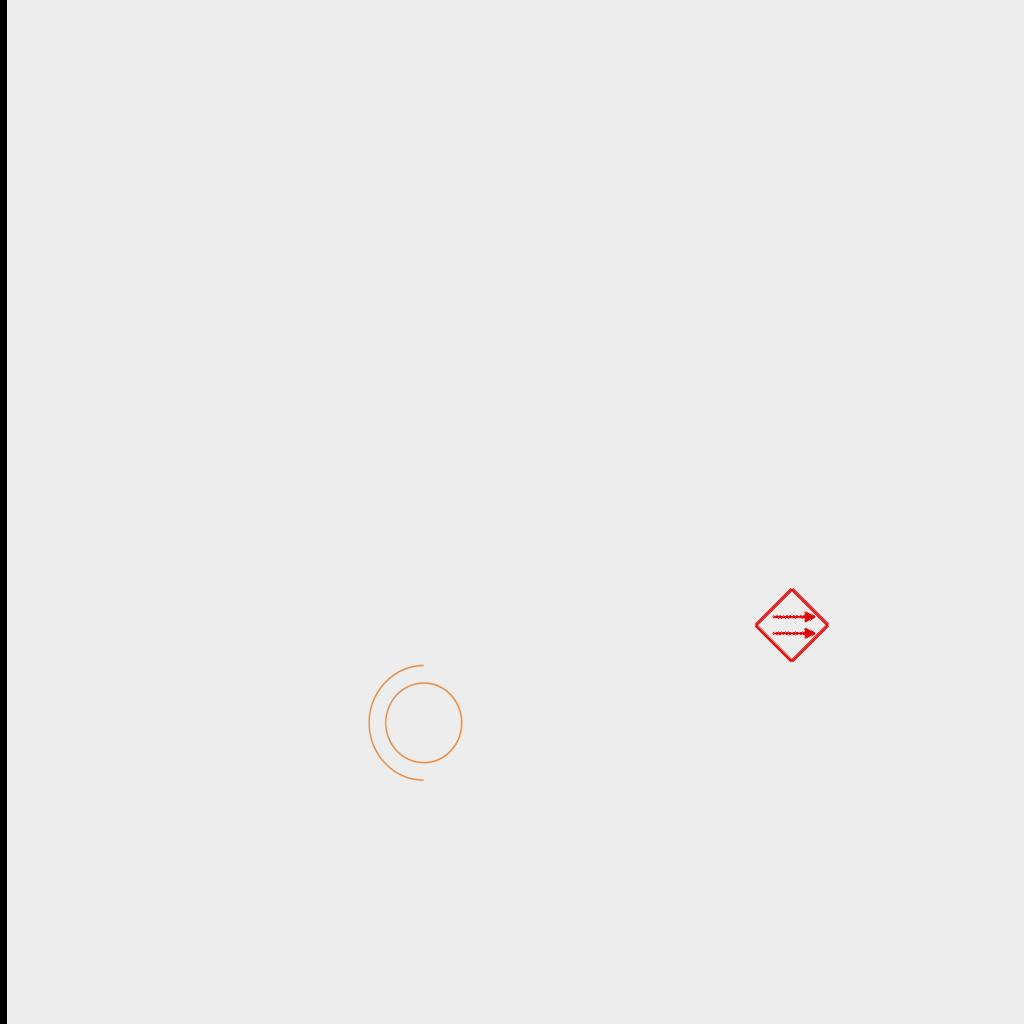RMO_Rauchmelder_optischer: (752, 585, 832, 665)
Scheinwerfer_fuer_Alarmbeleuchtung: (363, 660, 475, 792)
